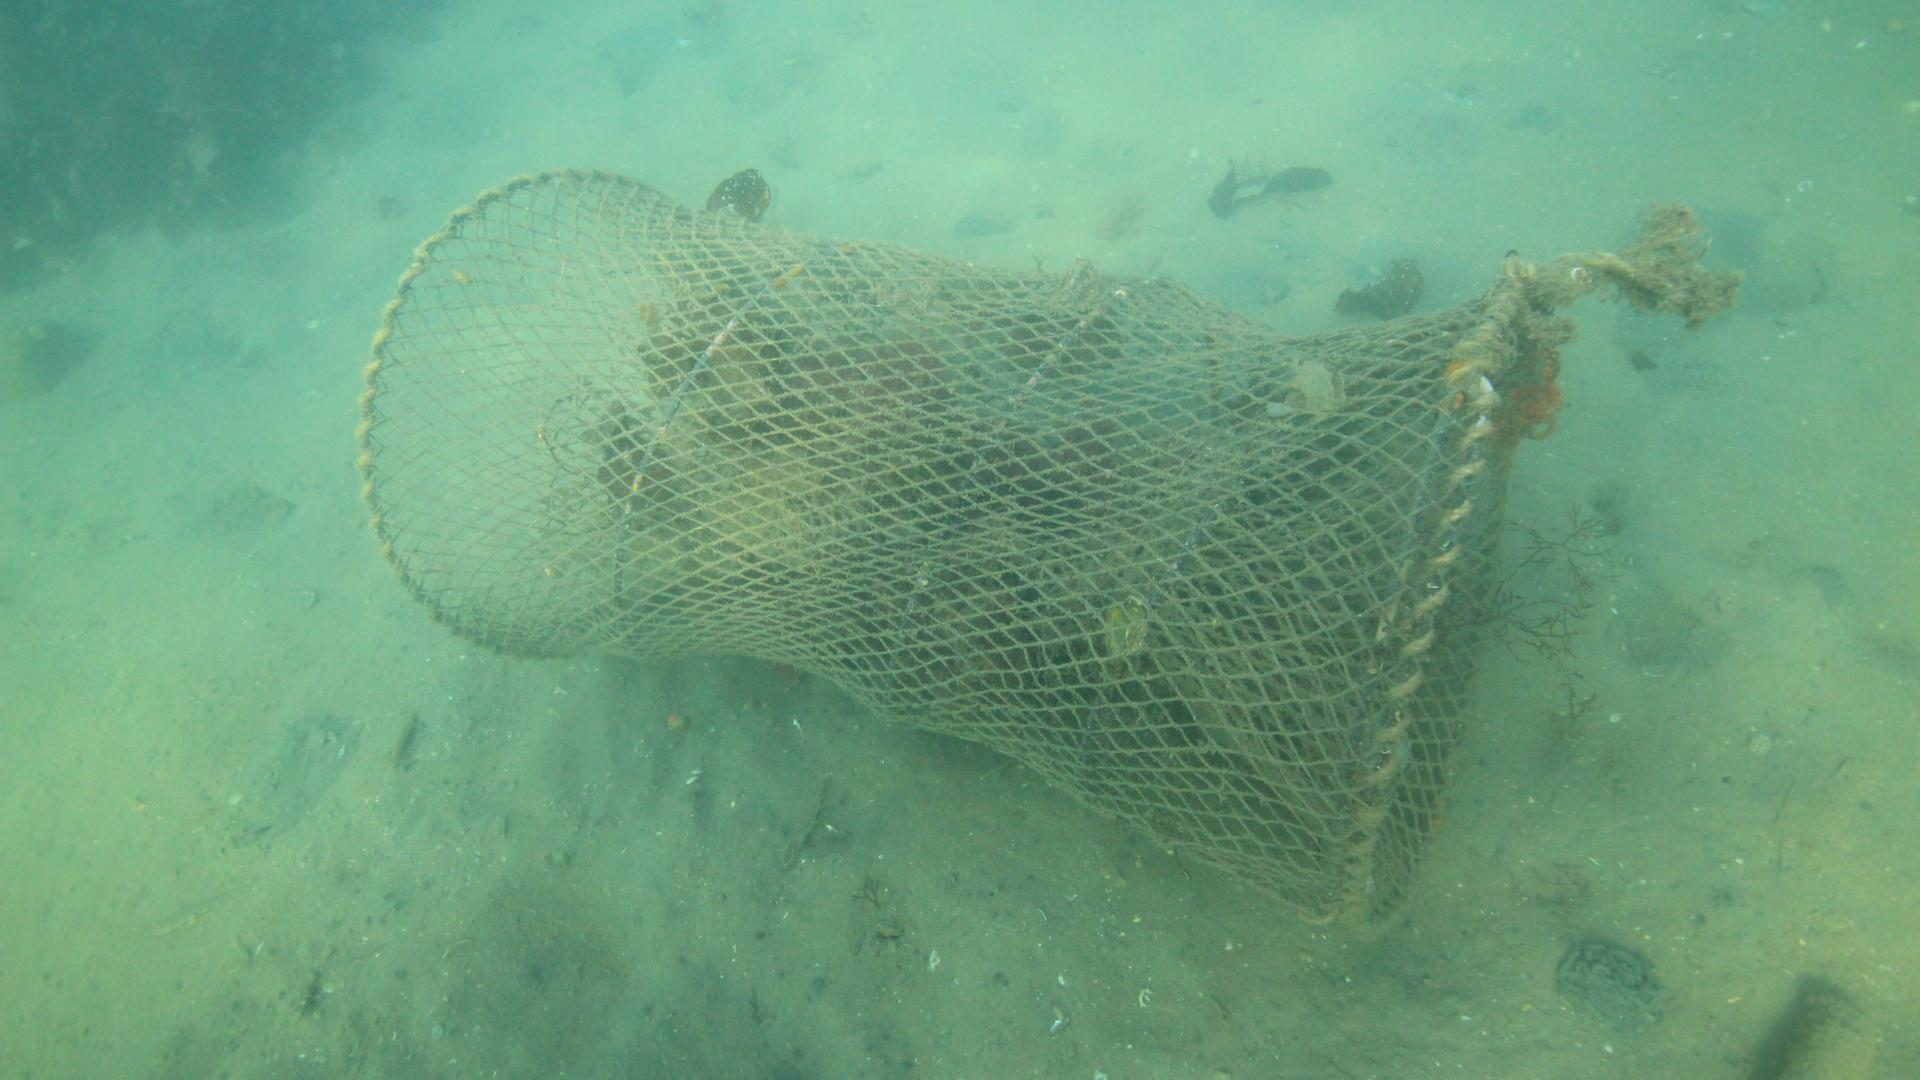spring fish trap: (356, 165, 1524, 944)
